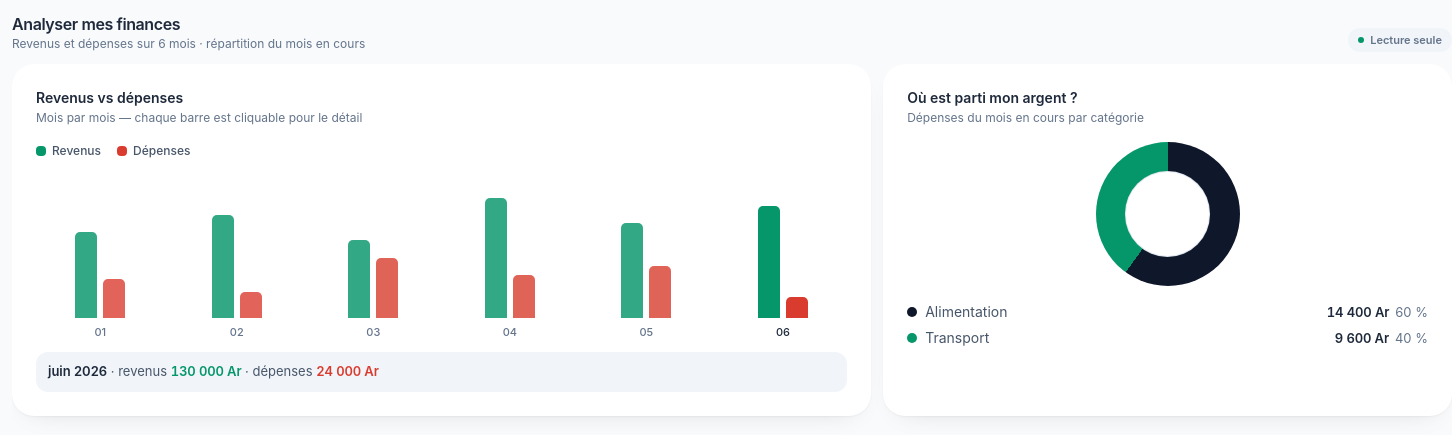
Test case: AnalyticsSection — lecture seule du tableau de bord › affiche le graphique mensuel et la ventilation par catégorie
The image size is (1452, 435).
Expected: the heading "Analyser mes finances" is shown, [12,14,180,34]
Expected: the text "Lecture seule" is shown, [1348,28,1451,52]
Un clic sur une barre plus ancienne met à jour le détail.
Click the button named "févr. 2026" at (237, 265), box [172,190,301,340]
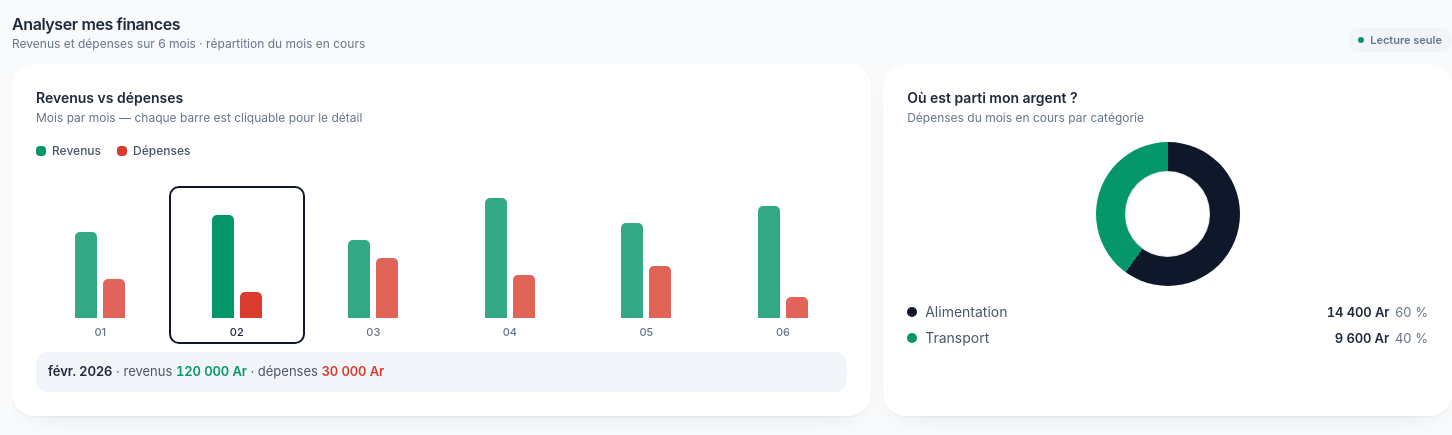
Expected: the text "févr. 2026" is shown, [48,363,112,379]
Expected: the text "120 000 Ar" is shown, [176,363,247,379]
